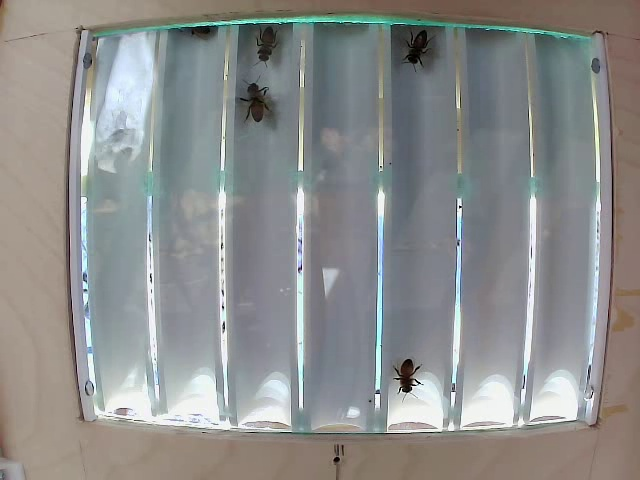bee: (224, 70, 286, 127), (396, 13, 443, 69), (244, 22, 296, 70), (384, 359, 438, 400)
